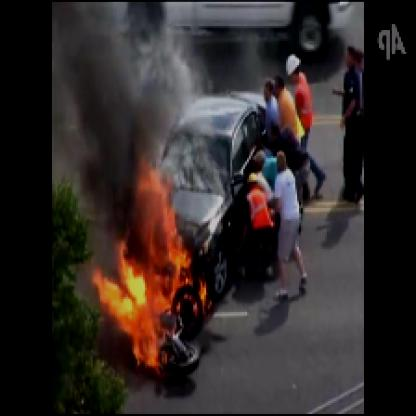Fire: (95, 152, 219, 383)
Smoke: (58, 2, 141, 228)
